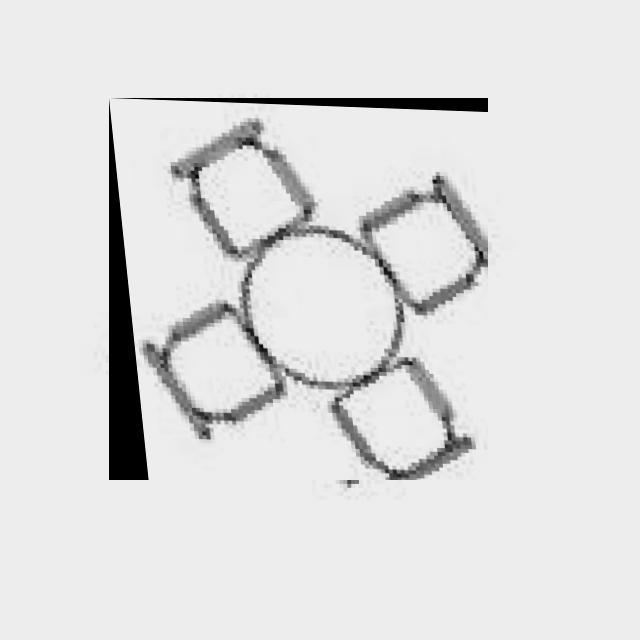table: (109, 98, 488, 480)
